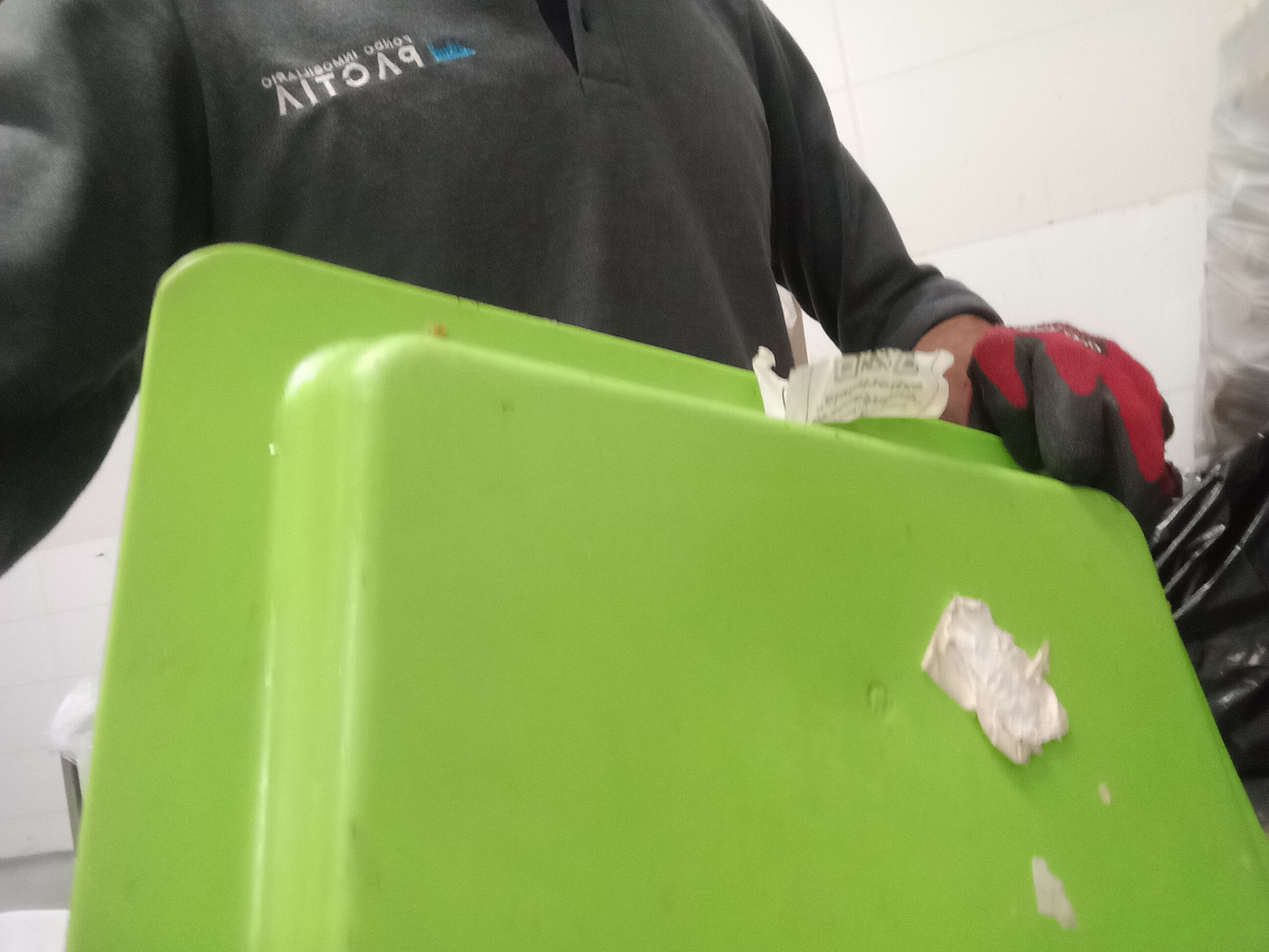Plastico: (64, 243, 1269, 952)
